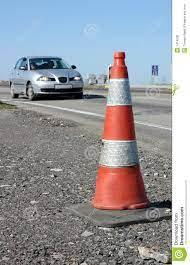car: (8, 56, 84, 101)
traffic cone: (91, 51, 151, 210)
